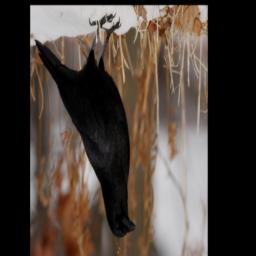Crow: (34, 12, 138, 243)
